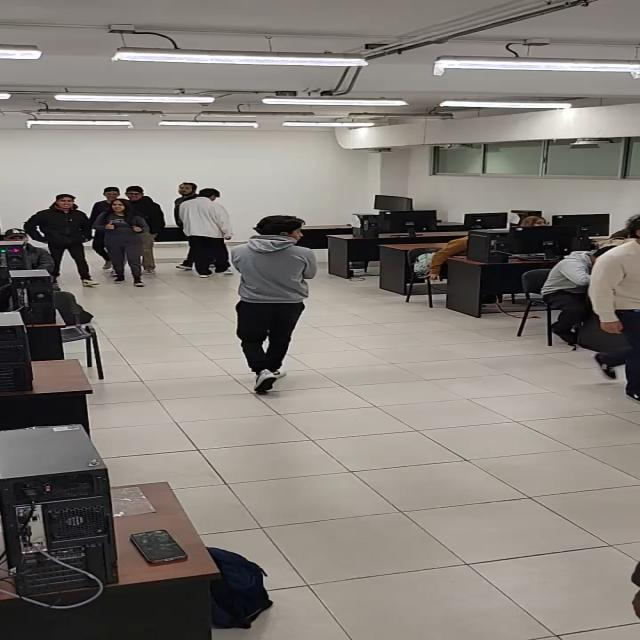Persona: (230, 215, 322, 398), (29, 188, 90, 296), (175, 187, 229, 275), (97, 196, 148, 289)
